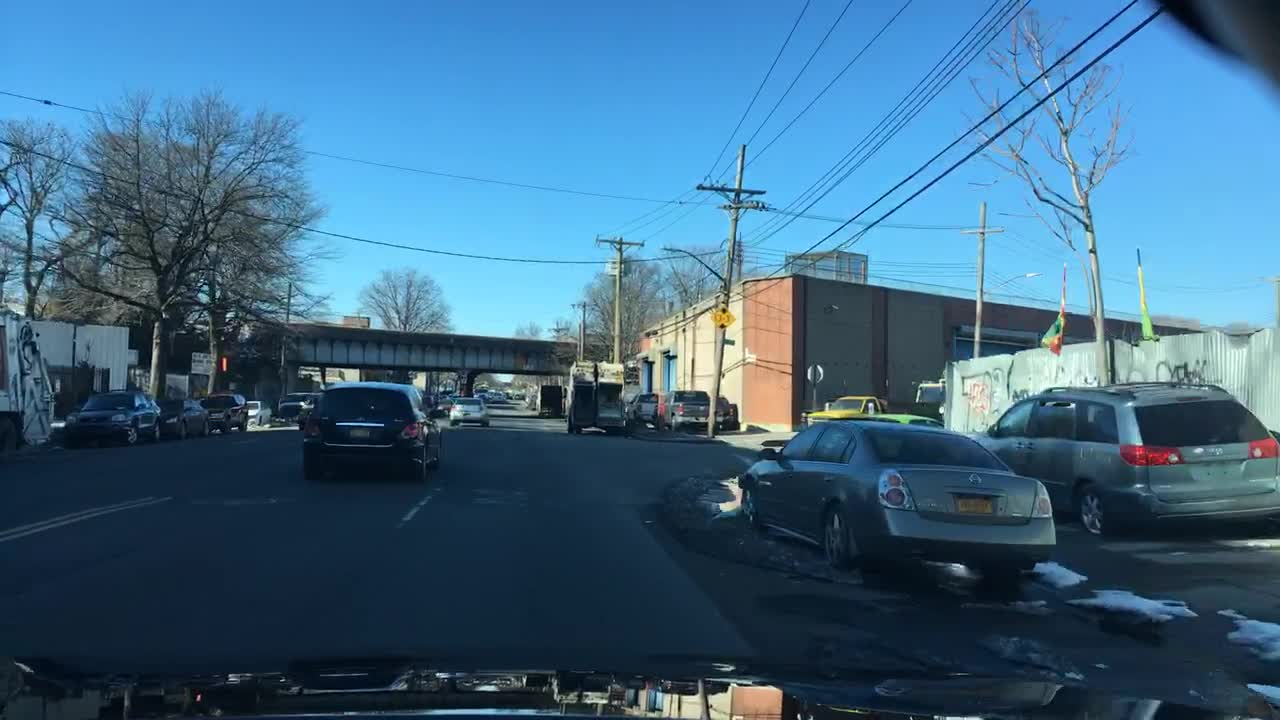car: (737, 420, 1058, 572), (974, 379, 1277, 533), (302, 379, 440, 480), (62, 386, 157, 446), (159, 398, 209, 439), (858, 408, 944, 431), (203, 393, 247, 433), (449, 398, 492, 427), (276, 390, 314, 421), (627, 389, 658, 426), (248, 399, 269, 425), (436, 395, 450, 415), (496, 389, 506, 400), (481, 390, 490, 402), (514, 391, 525, 400)
traffic sign: (712, 306, 738, 328), (806, 363, 823, 385)
truck: (0, 304, 56, 458), (568, 359, 624, 438), (661, 389, 726, 430), (802, 397, 884, 424), (529, 384, 565, 416)
